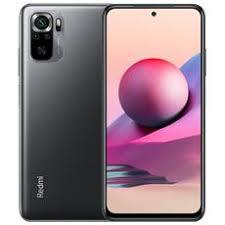Smartphone: (106, 9, 200, 219), (25, 6, 104, 215)
